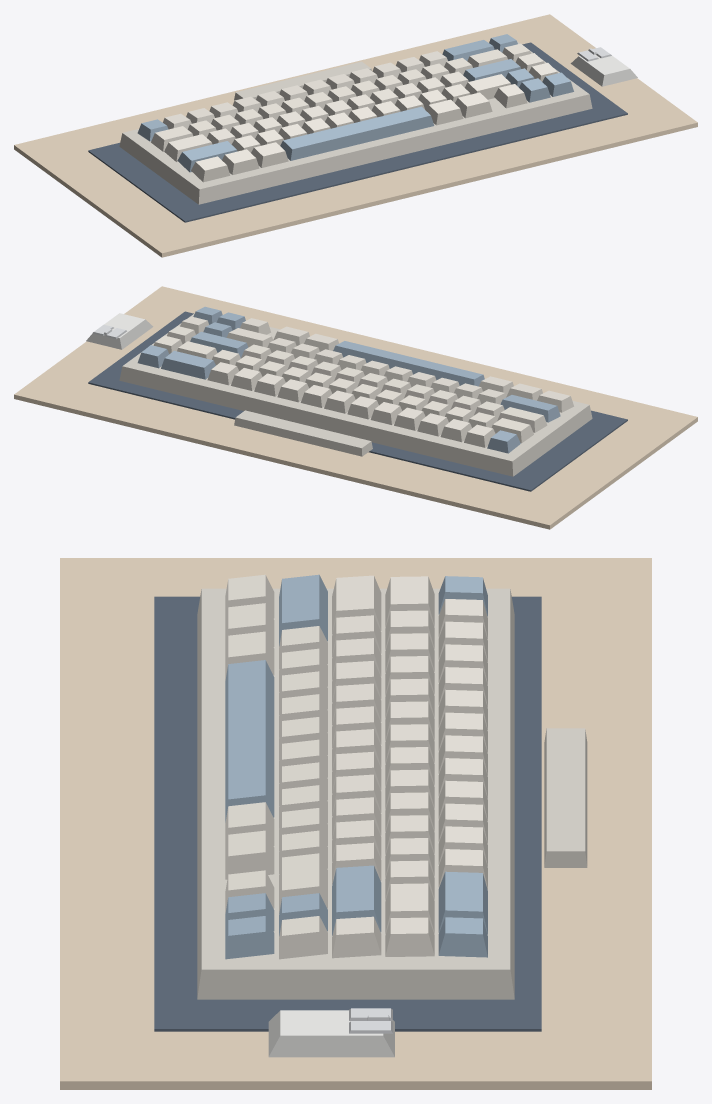
The model's file is keyboard_65_2c5b7fa4.glb.
3 renders of one model, top to bottom at view 1: azimuth 30°, elevation 25°; view 2: azimuth 150°, elevation 25°; view 3: azimuth 270°, elevation 25°, orthographic. The views are drawn at different scales.
Visible parts, largest first — view 1: desk, keyboard case, deskmat, key 62, mouse body, monitor stand, key 45, key 43, key 59, key 60, key 56, key 61 (+10 smaller); view 2: desk, keyboard case, deskmat, monitor stand, key 62, mouse body, key 14, key 45, key 43, key 31, key 16, key 56 (+20 smaller); view 3: desk, keyboard case, deskmat, key 62, monitor stand, mouse body, key 43, key 45, key 14, key 31, key 56, key 64 (+60 smaller).
Boxes of the visible parts, x1,y1,x2,y2 form: desk: [14, 14, 697, 257]; keyboard case: [119, 41, 592, 204]; deskmat: [88, 42, 627, 222]; key 62: [280, 106, 434, 160]; mouse body: [570, 54, 637, 86]; monitor stand: [234, 61, 371, 100]; key 45: [177, 141, 237, 172]; key 43: [463, 59, 520, 81]; key 59: [191, 156, 230, 182]; key 60: [222, 149, 259, 174]; key 56: [465, 74, 511, 99]; key 61: [251, 142, 288, 167]; desk: [14, 286, 697, 529]; keyboard case: [119, 313, 592, 476]; deskmat: [88, 311, 627, 491]; monitor stand: [234, 410, 372, 456]; key 62: [333, 341, 484, 386]; mouse body: [86, 313, 153, 349]; key 14: [161, 350, 215, 379]; key 45: [500, 395, 560, 422]; key 43: [190, 331, 248, 357]; key 31: [497, 407, 547, 432]; key 16: [491, 418, 533, 443]; key 56: [226, 328, 273, 347]; desk: [60, 558, 651, 1089]; keyboard case: [197, 588, 514, 999]; deskmat: [154, 596, 541, 1031]; key 62: [225, 660, 274, 822]; monitor stand: [544, 728, 587, 867]; mouse body: [268, 1010, 394, 1057]; key 43: [332, 865, 381, 935]; key 45: [279, 574, 327, 646]; key 14: [438, 871, 487, 934]; key 31: [332, 575, 381, 633]; key 56: [279, 853, 327, 913]; key 64: [225, 830, 274, 879].
Bounding box in the file's own units: 23 × 1.54 × 11.
